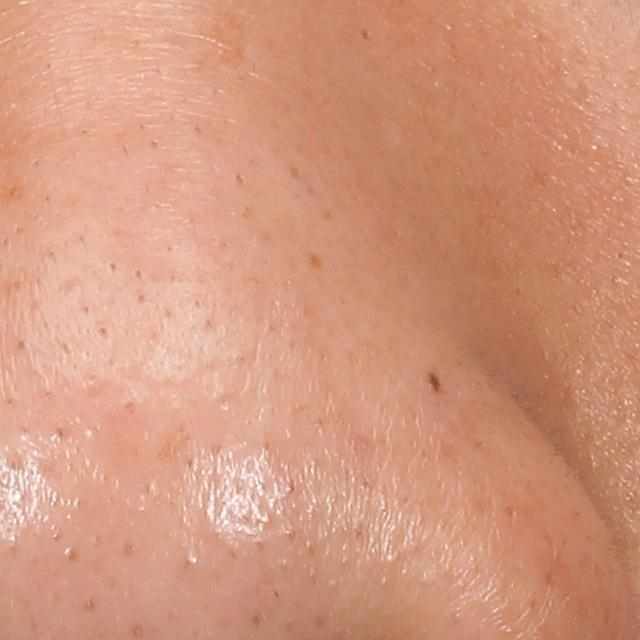nevus: (420, 367, 442, 396)
